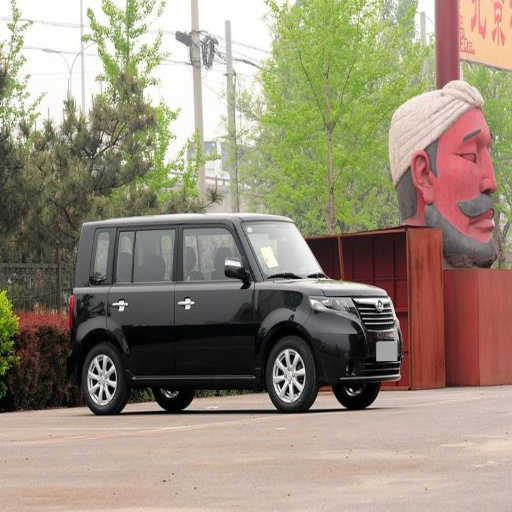back_right_door: (111, 225, 180, 370)
front_bumper: (320, 305, 398, 382)
front_right_door: (175, 224, 254, 371)
